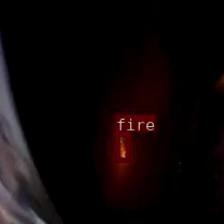fire: (114, 131, 130, 162)
